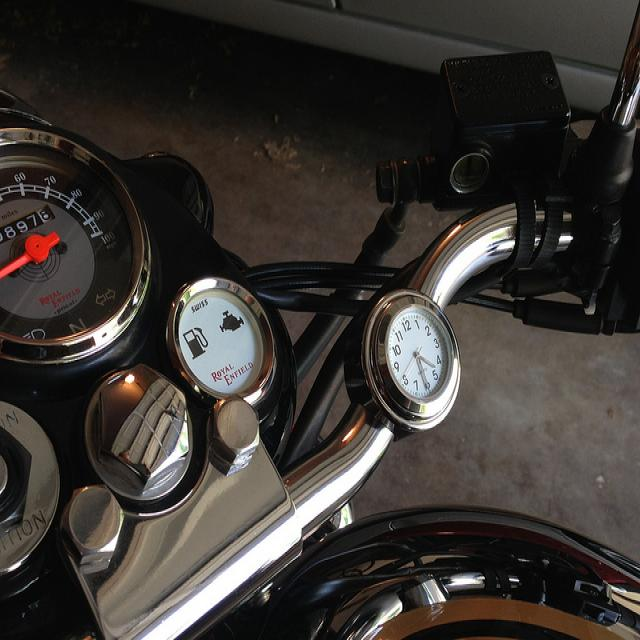motor: (0, 13, 640, 640)
